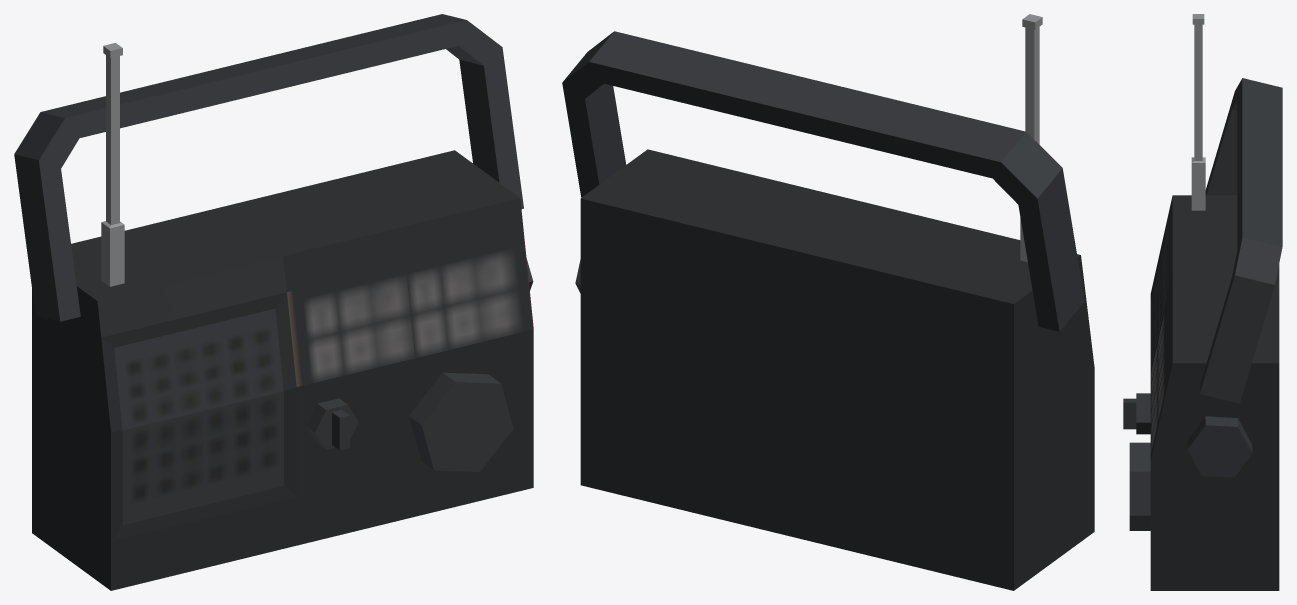
File: radio.glb
3 views of the same model, side by side, from view 1: azimuth 30°, elevation 25°; view 2: azimuth 150°, elevation 25°; view 3: azimuth 270°, elevation 25° (orthographic). The views are drawn at different scales.
Parts seen in each view (by area): view 1: SM_Prop_Radio_01; view 2: SM_Prop_Radio_01; view 3: SM_Prop_Radio_01.
Boxes of the visible parts, <box> form: SM_Prop_Radio_01: <box>14,14,533,590</box>; SM_Prop_Radio_01: <box>562,14,1094,590</box>; SM_Prop_Radio_01: <box>1123,14,1282,590</box>.
Bounding box in the file's own units: 0.3862 × 0.4082 × 0.1404.
Materials: 1 (1 with a texture image).
